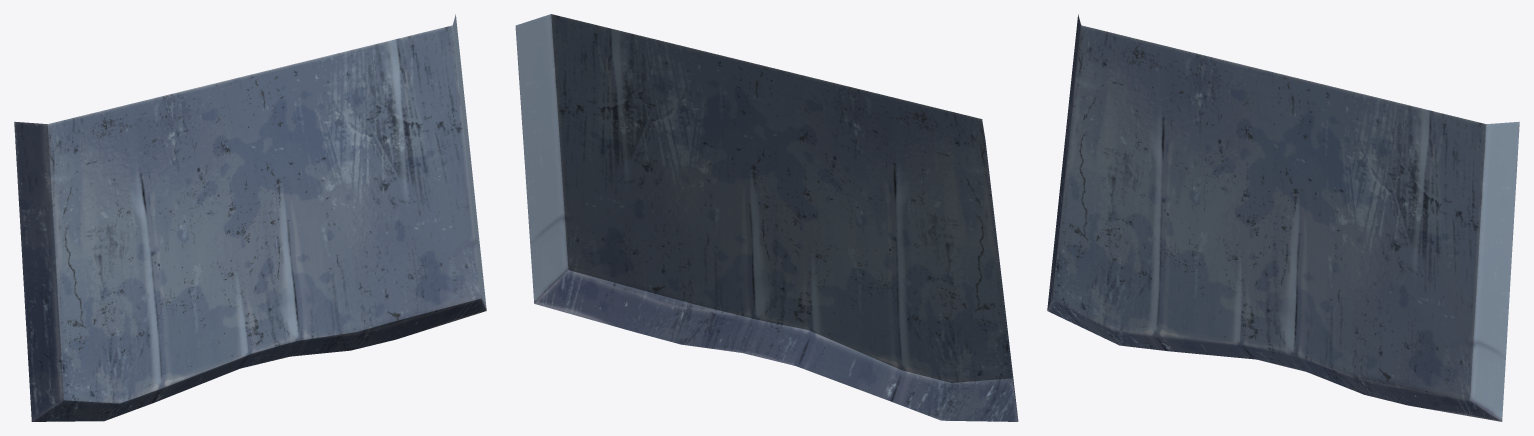
The model's file is envRoofTiles_03.fbx.
3 views of the same model, side by side, from view 1: azimuth 30°, elevation 25°; view 2: azimuth 150°, elevation 25°; view 3: azimuth 330°, elevation 25° (orthographic). The views are drawn at different scales.
Visible parts, largest first — view 1: envRoofTiles_03; view 2: envRoofTiles_03; view 3: envRoofTiles_03.
Part boxes in pixels (x1=…): envRoofTiles_03: x1=14, y1=14, x2=486, y2=421; envRoofTiles_03: x1=515, y1=14, x2=1018, y2=421; envRoofTiles_03: x1=1047, y1=14, x2=1519, y2=421.
Bounding box in the file's own units: 39.94 × 25.31 × 5.7.
